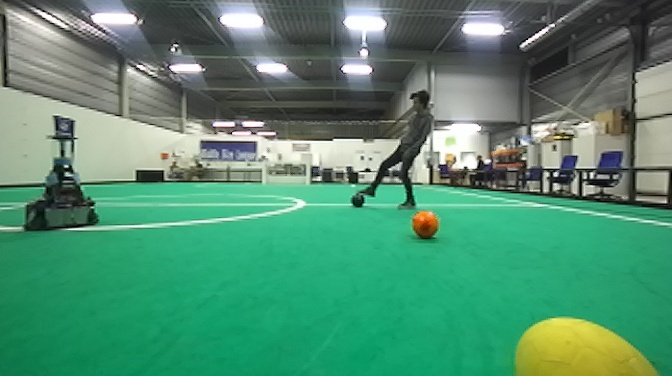ball: (506, 311, 672, 376), (408, 207, 443, 241), (348, 190, 366, 212)
goal: (262, 161, 314, 190)
goalpost: (304, 161, 313, 188), (261, 162, 268, 188)
human: (355, 87, 439, 212)
robot: (21, 112, 101, 236)
